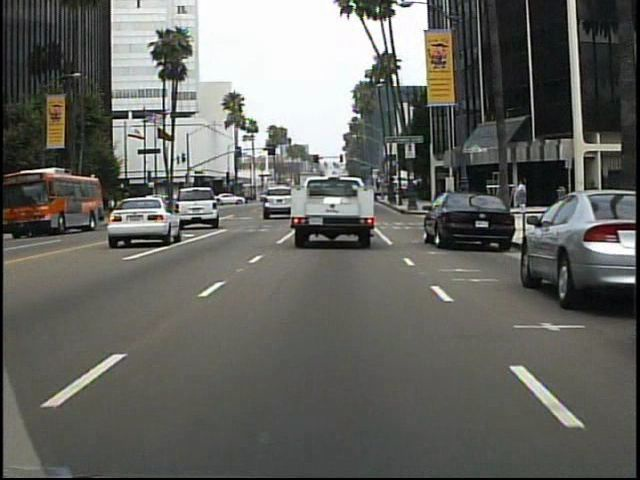person: (516, 178, 529, 195)
